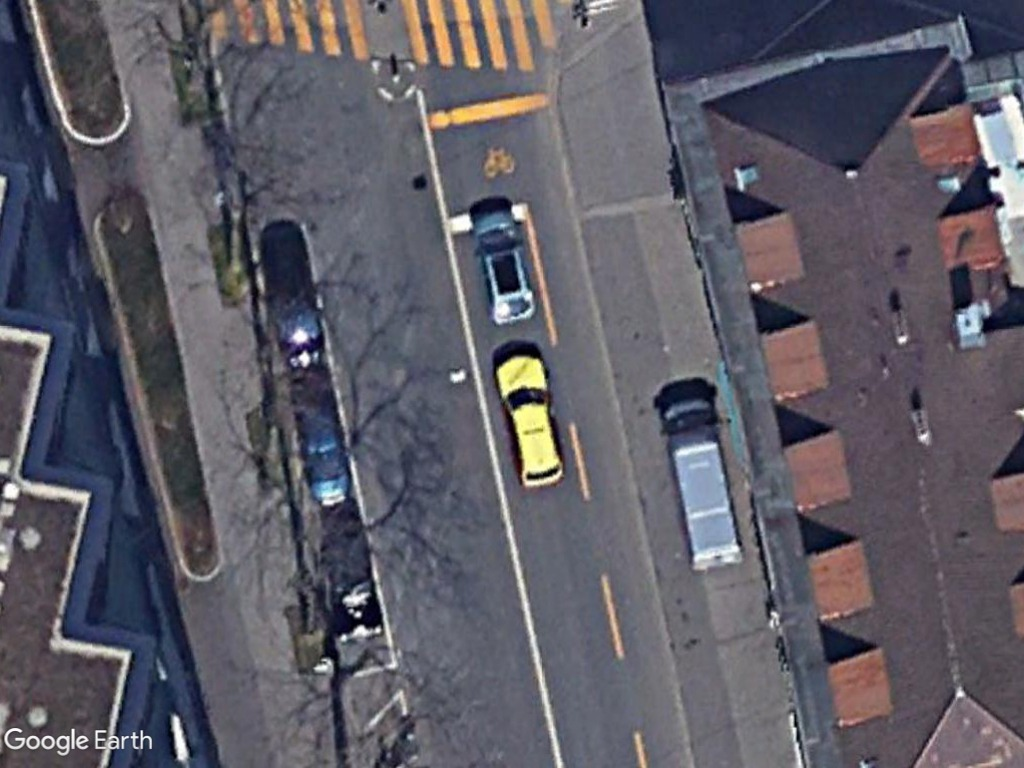car: (489, 347, 569, 490)
van: (659, 393, 743, 575)
